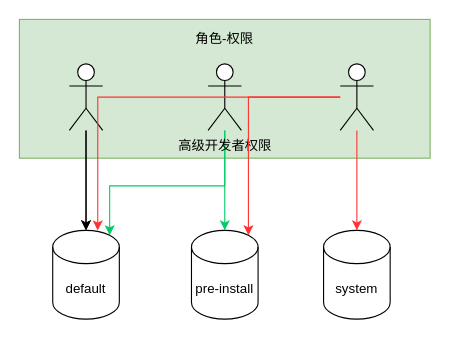
Image size: 450x339. Some labels were removed from this diagram. The centre of each missing label's shape, as x and y in pixels:
"基础开发者权限" goes at (x=85, y=96).
"系统开发者权限" goes at (x=356, y=96).
